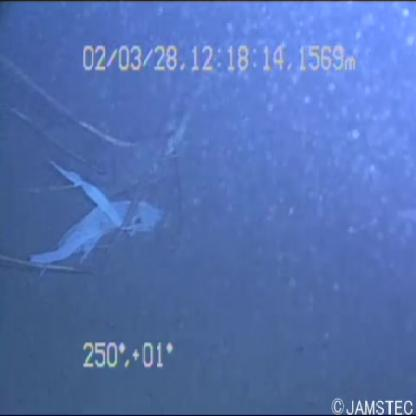Rác: (20, 147, 190, 291)
